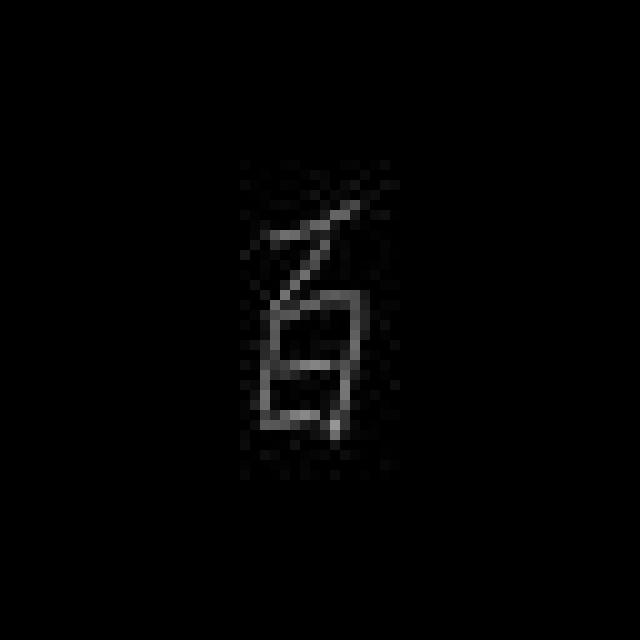100 -a hundred-: (245, 190, 374, 448)
